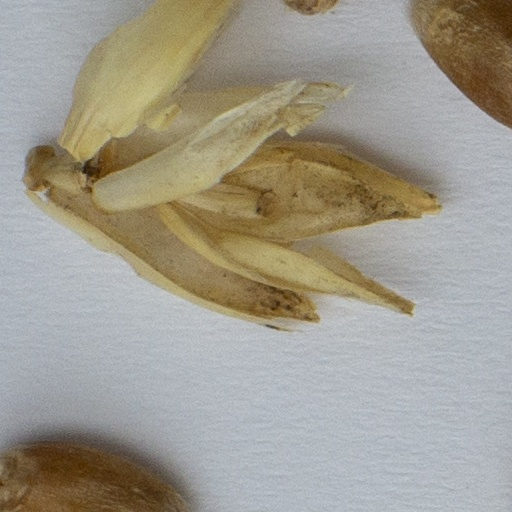Peel-poly: (26, 0, 442, 327)
